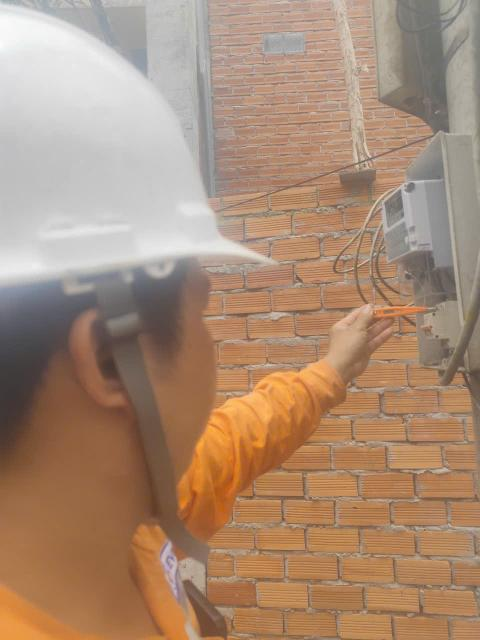helmet: (0, 2, 299, 372)
